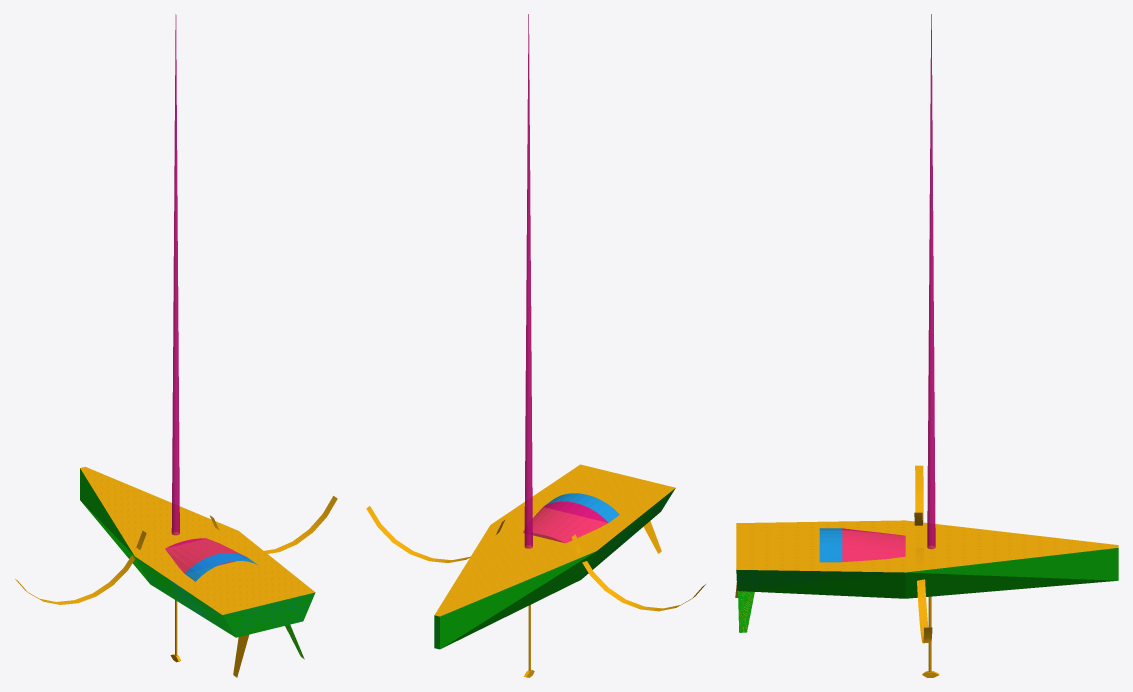
Rendered from IMOCA_COQUE.dae.
3 views of the same model, side by side, from view 1: azimuth 30°, elevation 25°; view 2: azimuth 150°, elevation 25°; view 3: azimuth 270°, elevation 25° (orthographic). The views are drawn at different scales.
Parts seen in each view (by area): view 1: SketchUp (×8); view 2: SketchUp (×8); view 3: SketchUp (×7).
Boxes of the visible parts, x1,y1,x2,y2 form: SketchUp (×8): (15, 14, 337, 637); SketchUp (×8): (366, 14, 705, 649); SketchUp (×7): (736, 14, 1118, 643).
Bounding box in the file's own units: 71165 × 71071 × 135626.
